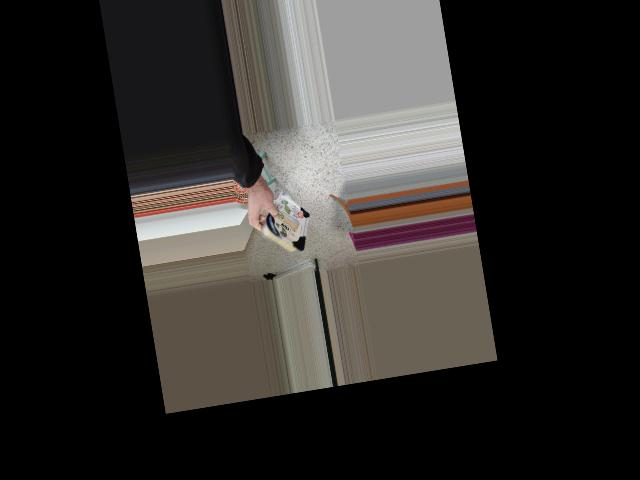cheese: (241, 193, 322, 259)
